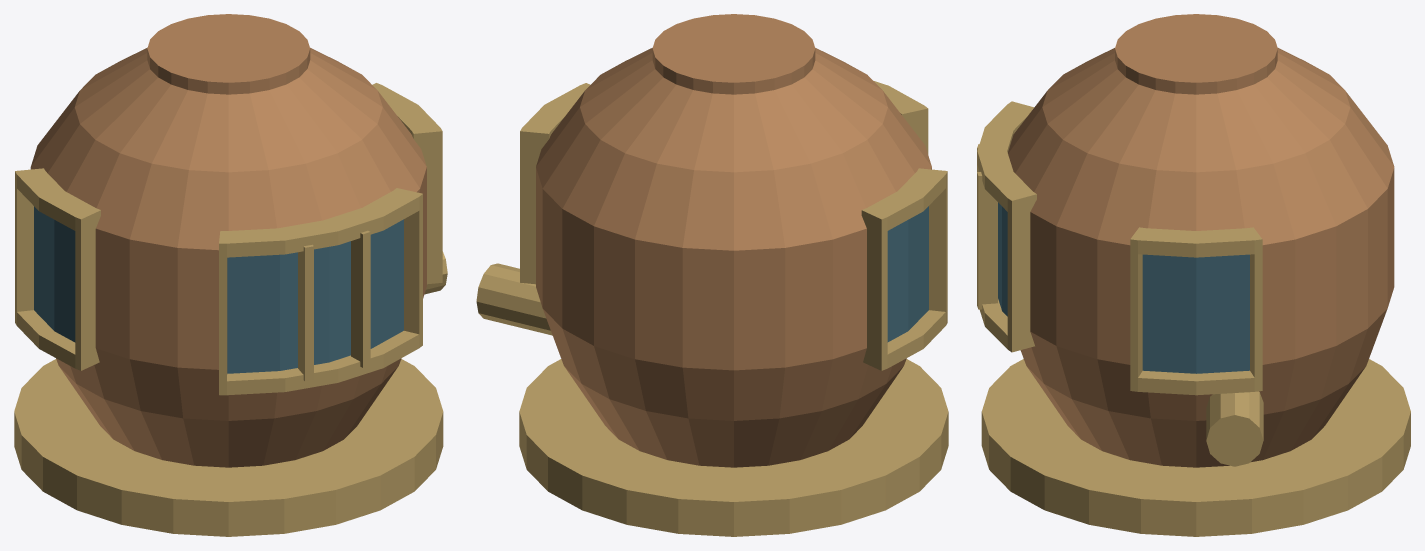
The picture shows the model from 3 angles, left to right: view 1: azimuth 30°, elevation 25°; view 2: azimuth 150°, elevation 25°; view 3: azimuth 270°, elevation 25°; orthographic projection.
Visible parts, largest first — view 1: WholeHollowThreeApertureHelmetShell, WholeOpenNeckFlange, FrontWholeOpaqueWindowInsert, FrontWholeRaisedWindowFrame, WholeCrownCap, LeftWholeRaisedWindowFrame, LeftWholeOpaqueWindowInsert, RightWholeRaisedWindowFrame, FrontFixedProtectionBarRight, FrontFixedProtectionBarLeft; view 2: WholeHollowThreeApertureHelmetShell, WholeOpenNeckFlange, WholeCrownCap, LeftWholeRaisedWindowFrame, LeftWholeOpaqueWindowInsert, RightWholeRaisedWindowFrame, FixedSideCappedConnector, FrontWholeRaisedWindowFrame; view 3: WholeHollowThreeApertureHelmetShell, WholeOpenNeckFlange, RightWholeOpaqueWindowInsert, WholeCrownCap, RightWholeRaisedWindowFrame, FrontWholeRaisedWindowFrame, FixedSideCappedConnector, FrontFixedProtectionBarRight, FrontWholeOpaqueWindowInsert.
Boxes of the visible parts, x1=… form: WholeHollowThreeApertureHelmetShell: x1=30, y1=47, x2=426, y2=467; WholeOpenNeckFlange: x1=14, y1=359, x2=443, y2=536; FrontWholeOpaqueWindowInsert: x1=227, y1=219, x2=403, y2=373; FrontWholeRaisedWindowFrame: x1=219, y1=188, x2=422, y2=395; WholeCrownCap: x1=147, y1=14, x2=310, y2=94; LeftWholeRaisedWindowFrame: x1=15, y1=168, x2=100, y2=370; LeftWholeOpaqueWindowInsert: x1=34, y1=206, x2=75, y2=342; RightWholeRaisedWindowFrame: x1=372, y1=83, x2=442, y2=284; FrontFixedProtectionBarRight: x1=351, y1=230, x2=370, y2=367; FrontFixedProtectionBarLeft: x1=298, y1=244, x2=313, y2=381; WholeHollowThreeApertureHelmetShell: x1=536, y1=48, x2=931, y2=467; WholeOpenNeckFlange: x1=519, y1=359, x2=948, y2=536; WholeCrownCap: x1=652, y1=14, x2=815, y2=94; LeftWholeRaisedWindowFrame: x1=861, y1=168, x2=947, y2=370; LeftWholeOpaqueWindowInsert: x1=887, y1=206, x2=928, y2=342; RightWholeRaisedWindowFrame: x1=520, y1=83, x2=590, y2=284; FixedSideCappedConnector: x1=476, y1=263, x2=552, y2=335; FrontWholeRaisedWindowFrame: x1=874, y1=81, x2=928, y2=154; WholeHollowThreeApertureHelmetShell: x1=1008, y1=48, x2=1394, y2=467; WholeOpenNeckFlange: x1=981, y1=359, x2=1410, y2=536; RightWholeOpaqueWindowInsert: x1=1142, y1=254, x2=1249, y2=373; WholeCrownCap: x1=1115, y1=14, x2=1277, y2=94; RightWholeRaisedWindowFrame: x1=1130, y1=227, x2=1262, y2=395; FrontWholeRaisedWindowFrame: x1=977, y1=101, x2=1036, y2=352; FixedSideCappedConnector: x1=1206, y1=391, x2=1263, y2=466; FrontFixedProtectionBarRight: x1=977, y1=172, x2=997, y2=309; FrontWholeOpaqueWindowInsert: x1=998, y1=202, x2=1007, y2=316.
Size of the model in its own units: 0.434 by 0.399 by 0.3944.
